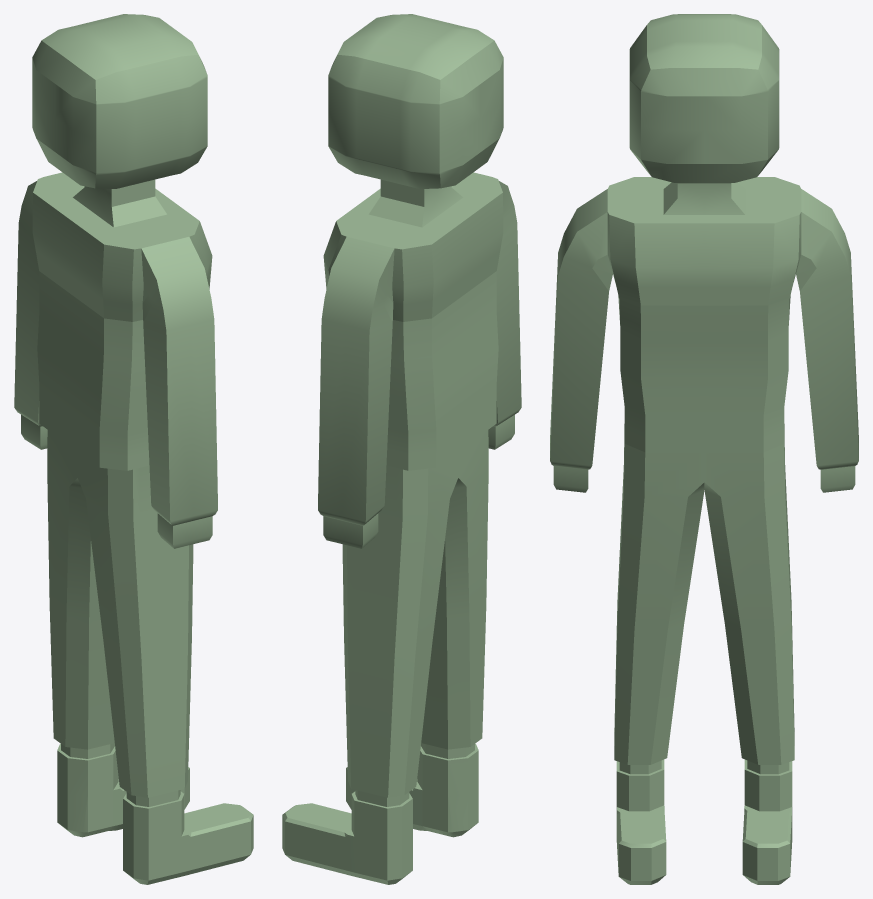
The model's file is genetic-human.glb.
3 renders of one model, left to right at view 1: azimuth 30°, elevation 25°; view 2: azimuth 150°, elevation 25°; view 3: azimuth 270°, elevation 25°, orthographic.
Parts seen in each view (by area): view 1: Cube.001_static; view 2: Cube.001_static; view 3: Cube.001_static.
Part boxes in pixels (left/top/right/bottom): Cube.001_static: left=14, top=14, right=253, bottom=884; Cube.001_static: left=282, top=14, right=521, bottom=884; Cube.001_static: left=550, top=14, right=858, bottom=884.
Bounding box in the file's own units: 0.4958 × 2.4 × 0.8275.
